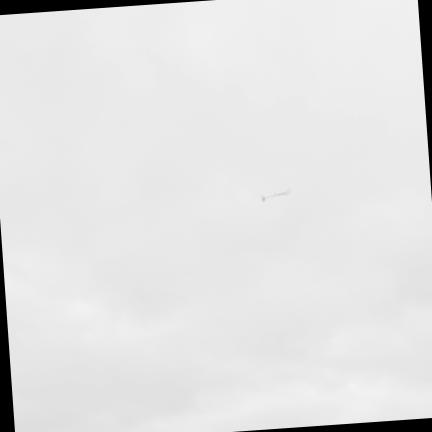Shahed: (261, 189, 290, 200)
